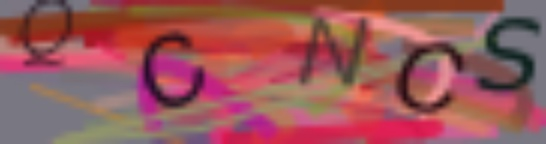C: (393, 39, 464, 115), (139, 29, 206, 109)
N: (295, 9, 372, 86)
Q: (20, 1, 79, 70)
S: (473, 14, 542, 96)
